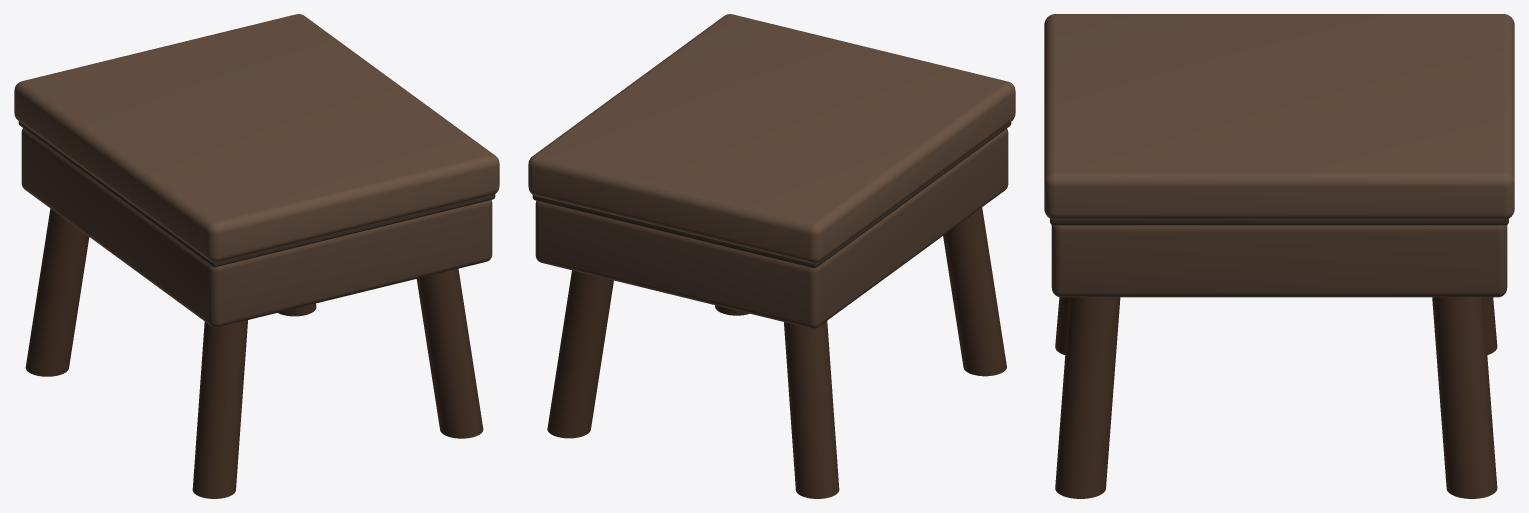
3 renders of one model, left to right at view 1: azimuth 30°, elevation 25°; view 2: azimuth 150°, elevation 25°; view 3: azimuth 270°, elevation 25°, orthographic. The views are drawn at different scales.
Parts seen in each view (by area): view 1: stool; view 2: stool; view 3: stool.
Boxes of the visible parts, left/top/right/bottom form: stool: left=14, top=14, right=499, bottom=498; stool: left=528, top=14, right=1015, bottom=498; stool: left=1044, top=14, right=1514, bottom=498.
Size of the model in its own units: 0.42 by 0.3825 by 0.5.
